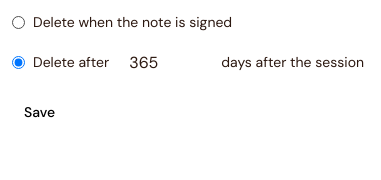
Test case: AudioRetentionSettings › shows the error when saving fails
Click the radio button labelled "Delete when the note is signed" at (18, 22), box 12,16 -> 25,28
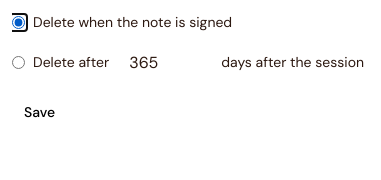
Click the button "Save" at (40, 112), box 12,96 -> 67,128
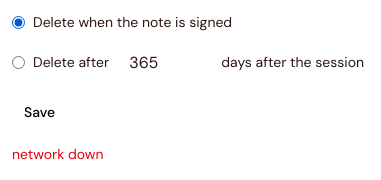
Now the message reads "network down", box 12,145 -> 104,163
